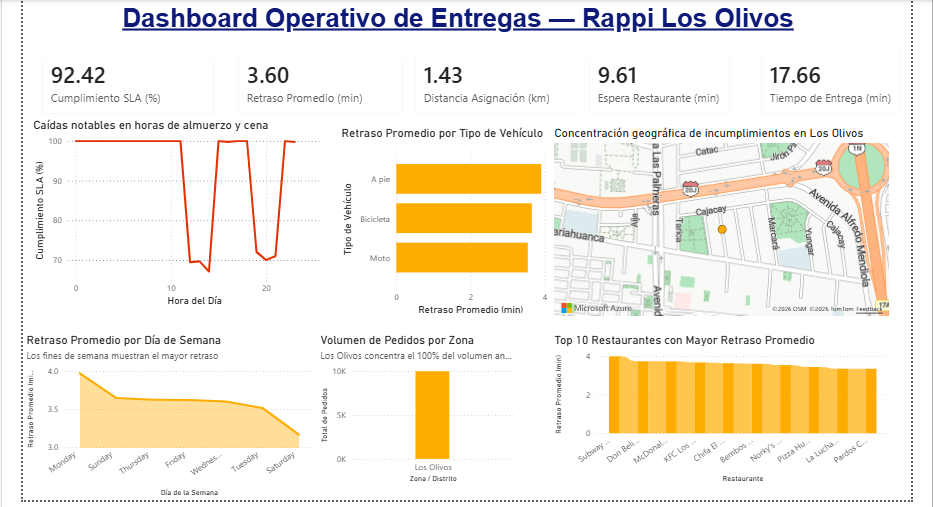

This screenshot's page, from the dashboard's own definition file:
{"tool":"powerbi","page":{"name":"DASHBOARD DE ENTREGAS","canvas":[1280,720],"ordinal":0},"visuals":[{"type":"cardVisual","fields":{"Data":["datamart_rappi fact_pedidos.KPI1_Cumplimiento_SLA"]},"box":[10.1,51.8,282.2,129.6],"z":0},{"type":"cardVisual","fields":{"Data":["datamart_rappi fact_pedidos.KPI2_Retraso_Promedio"]},"box":[292.3,51.8,272.2,129.6],"z":1000},{"type":"cardVisual","fields":{"Data":["datamart_rappi fact_pedidos.KPI3_Distancia_Asignacion"]},"box":[547.2,51.8,272.2,129.6],"z":2000},{"type":"cardVisual","fields":{"Data":["datamart_rappi fact_pedidos.KPI4_Espera_Restaurante"]},"box":[797.8,51.8,237.6,129.6],"z":3000},{"type":"cardVisual","fields":{"Data":["datamart_rappi fact_pedidos.KPI5_Tiempo_Entrega"]},"box":[1045.4,51.8,234.7,129.6],"z":4000},{"type":"lineChart","title":"Caídas notables en horas de almuerzo y cena","fields":{"Category":["datamart_rappi dim_tiempo.hora_dia"],"Y":["datamart_rappi fact_pedidos.KPI1_Cumplimiento_SLA"]},"box":[10.1,169.9,423.4,276.5],"z":5000},{"type":"areaChart","title":"Retraso Promedio por Día de Semana","fields":{"Category":["datamart_rappi dim_tiempo.dia_semana"],"Y":["datamart_rappi fact_pedidos.KPI2_Retraso_Promedio"]},"box":[0,479.5,423.4,240.5],"z":6000},{"type":"columnChart","title":"Volumen de Pedidos por Zona","fields":{"Category":["datamart_rappi dim_zona.distrito"],"Y":["datamart_rappi fact_pedidos.Total_Pedidos"]},"box":[423.4,479.5,288,220.3],"z":7000},{"type":"barChart","title":"Retraso Promedio por Tipo de Vehículo","fields":{"Category":["datamart_rappi dim_tipo_vehiculo.descripcion"],"Y":["datamart_rappi fact_pedidos.KPI2_Retraso_Promedio"]},"box":[453.6,181.4,306.7,277.9],"z":8000},{"type":"azureMap","title":"Concentración geográfica de incumplimientos en Los Olivos","fields":{"Category":["datamart_rappi dim_zona.distrito"],"Y":["Avg(datamart_rappi dim_restaurante.latitud)"],"X":["Avg(datamart_rappi dim_restaurante.longitud)"],"Size":["datamart_rappi fact_pedidos.KPI1_Cumplimiento_SLA"]},"box":[760.3,181.4,492.5,277.9],"z":9000},{"type":"ribbonChart","title":"Top 10 Restaurantes con Mayor Retraso Promedio","fields":{"Category":["datamart_rappi dim_restaurante.nombre_sucursal"],"Y":["datamart_rappi fact_pedidos.KPI2_Retraso_Promedio"]},"box":[760.3,479.5,491,220.3],"z":10000},{"type":"textbox","box":[0,0,1252.8,83.5],"z":11000}]}

Visuals, with their boxes on the page's 1280x720 design canvas (x1, y1, x2, y2). These are canvas units, not pixel positions in the 933x507 screenshot, which may show the page scaled, cropped or inside an application window:
cardVisual - datamart_rappi fact_pedidos.KPI1_Cumplimiento_SLA: x1=10, y1=52, x2=292, y2=181
cardVisual - datamart_rappi fact_pedidos.KPI2_Retraso_Promedio: x1=292, y1=52, x2=564, y2=181
cardVisual - datamart_rappi fact_pedidos.KPI3_Distancia_Asignacion: x1=547, y1=52, x2=819, y2=181
cardVisual - datamart_rappi fact_pedidos.KPI4_Espera_Restaurante: x1=798, y1=52, x2=1035, y2=181
cardVisual - datamart_rappi fact_pedidos.KPI5_Tiempo_Entrega: x1=1045, y1=52, x2=1280, y2=181
"Caídas notables en horas de almuerzo y cena" lineChart: x1=10, y1=170, x2=434, y2=446
"Retraso Promedio por Día de Semana" areaChart: x1=0, y1=480, x2=423, y2=720
"Volumen de Pedidos por Zona" columnChart: x1=423, y1=480, x2=711, y2=700
"Retraso Promedio por Tipo de Vehículo" barChart: x1=454, y1=181, x2=760, y2=459
"Concentración geográfica de incumplimientos en Los Olivos" azureMap: x1=760, y1=181, x2=1253, y2=459
"Top 10 Restaurantes con Mayor Retraso Promedio" ribbonChart: x1=760, y1=480, x2=1251, y2=700
textbox: x1=0, y1=0, x2=1253, y2=84
